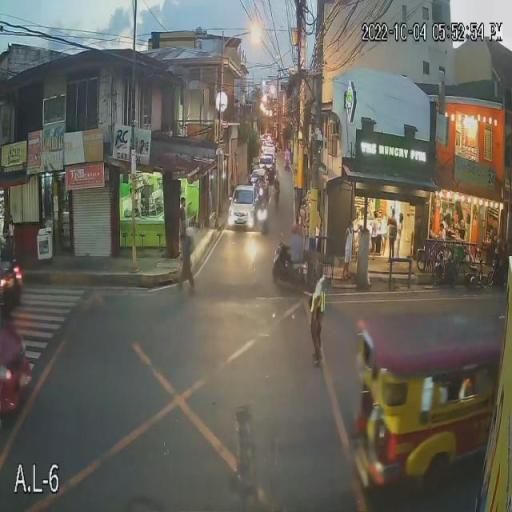motorcycle: (272, 243, 308, 291), (254, 206, 268, 234)
rider: (255, 186, 268, 215)
